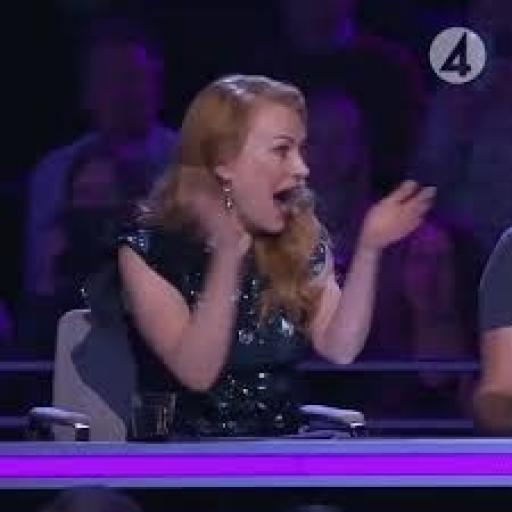clapping: (0, 38, 462, 512)
